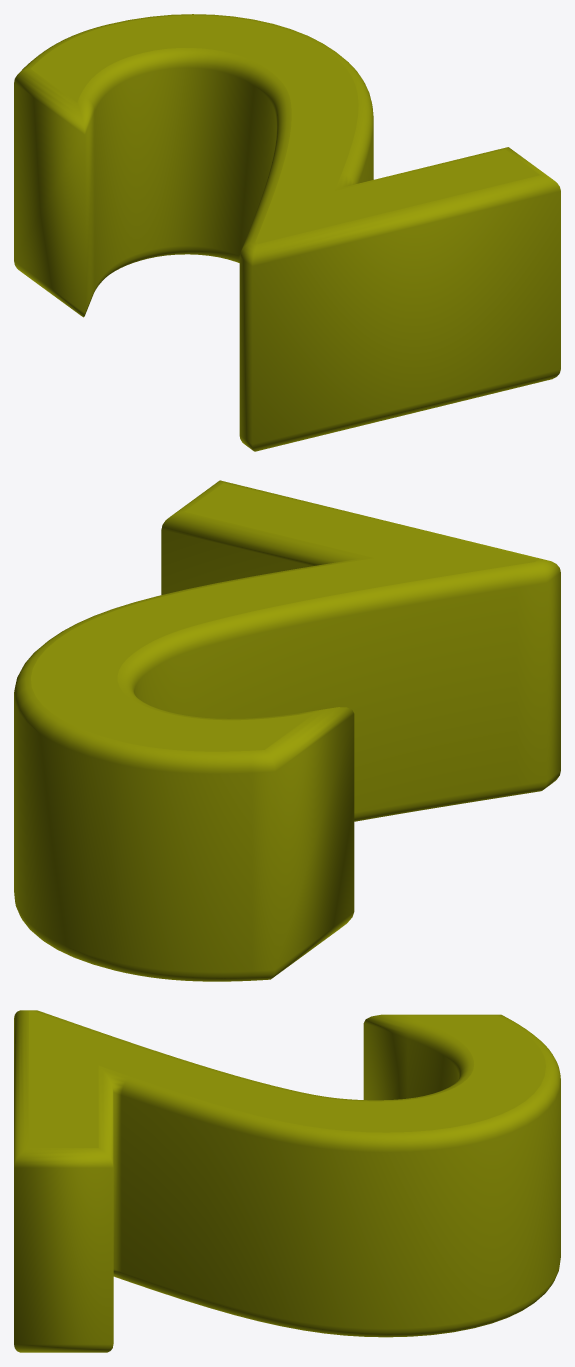
3 renders of one model, top to bottom at view 1: azimuth 30°, elevation 25°; view 2: azimuth 150°, elevation 25°; view 3: azimuth 270°, elevation 25°, orthographic. The views are drawn at different scales.
Parts seen in each view (by area): view 1: Text; view 2: Text; view 3: Text.
Part boxes in pixels (x1,y1,x2,y2): Text: (14, 14, 560, 451); Text: (14, 480, 560, 981); Text: (14, 1010, 560, 1352).
Size of the model in its own units: 47.2 by 30 by 73.1.
